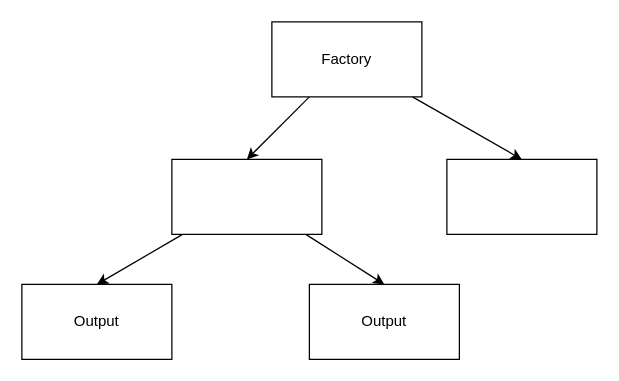
The diagram is 619 pixels wide and 381 high, and some of its shapes have lost their labels. Each missing label, with the centre of its shape:
"Adapter" goes at pixel 246 196.
"Swapchain" goes at pixel 521 196.
